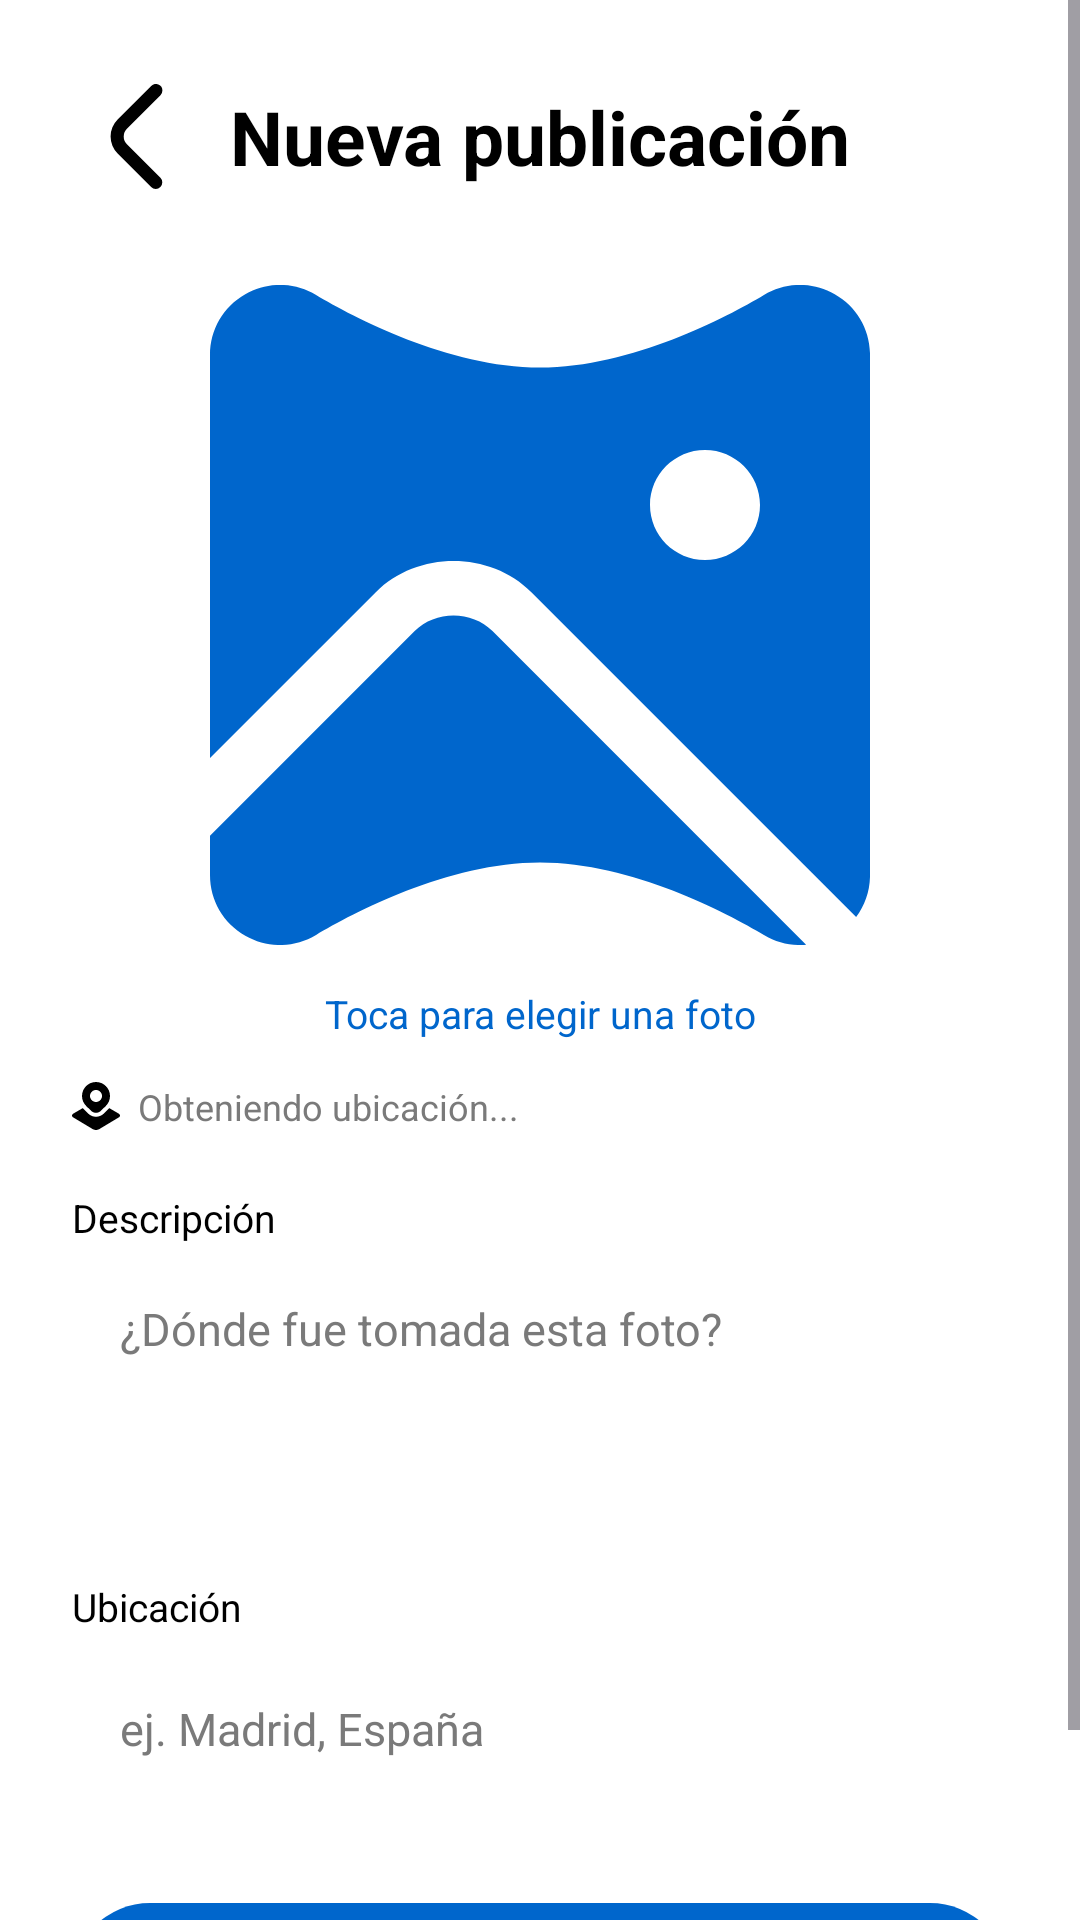

Point at icon controls on the screen. Image size 1080w x 1920h, points as (x,y).
back: (136,136)
location: (96,1106)
